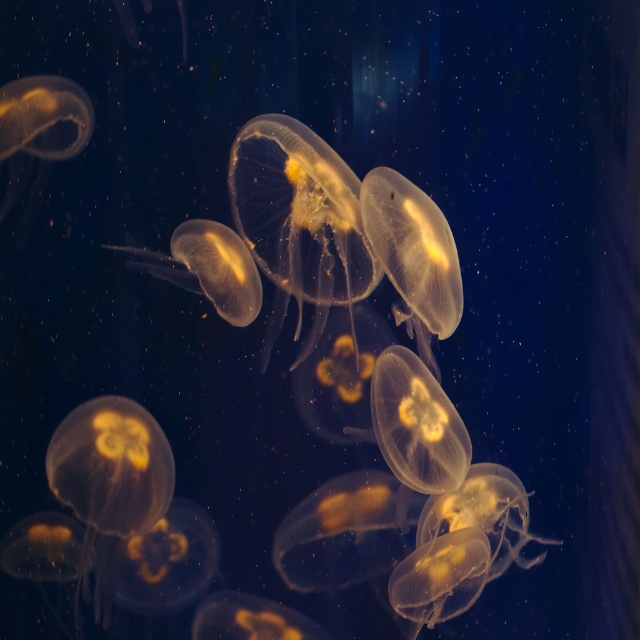Jellyfish: (0, 75, 563, 640)
